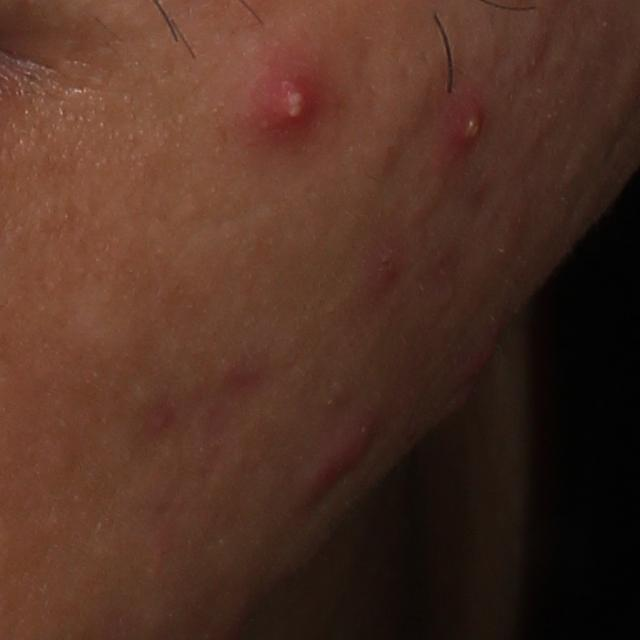papule: (306, 428, 379, 496), (458, 335, 497, 391), (372, 249, 407, 295)
pustule: (245, 60, 324, 144), (446, 91, 490, 148)
